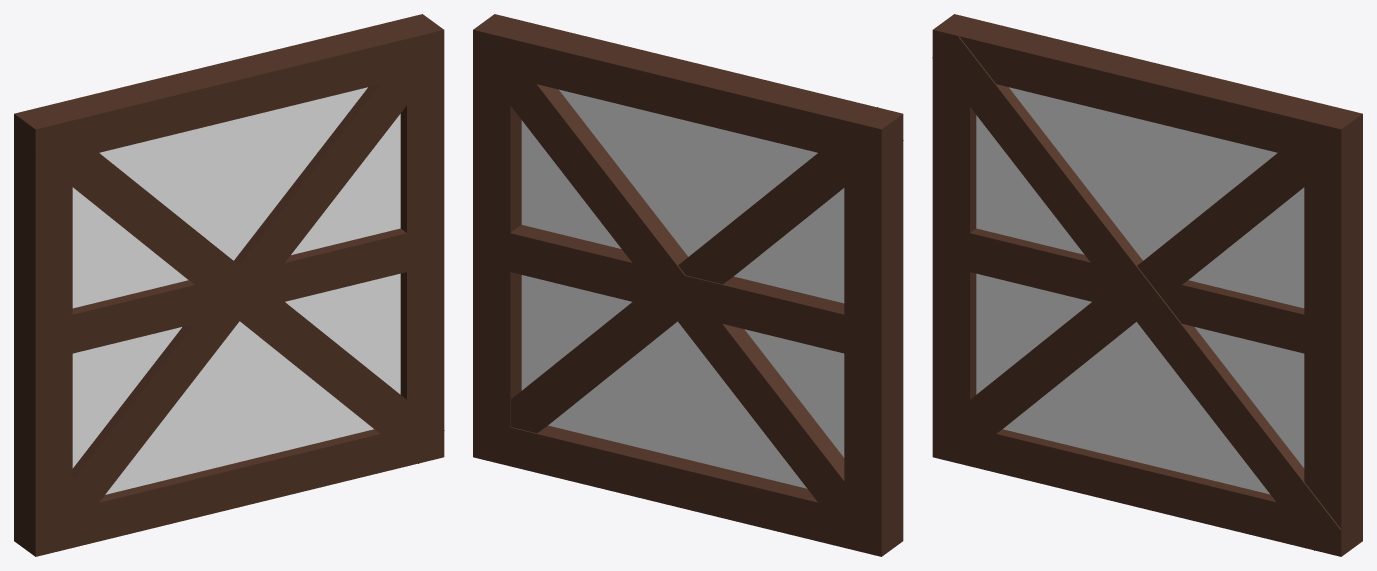
File: xlduvar.fbx
3 renders of one model, left to right at view 1: azimuth 30°, elevation 25°; view 2: azimuth 150°, elevation 25°; view 3: azimuth 330°, elevation 25°, orthographic.
Parts seen in each view (by area): view 1: Plane.031, Plane.028; view 2: Plane.031, Plane.028; view 3: Plane.031, Plane.028.
Boxes of the visible parts, x1,y1,x2,y2 form: Plane.031: [14, 14, 444, 556]; Plane.028: [72, 87, 400, 494]; Plane.031: [473, 14, 903, 556]; Plane.028: [521, 89, 844, 488]; Plane.031: [932, 14, 1362, 556]; Plane.028: [976, 87, 1304, 494].
Size of the model in its own units: 2.86 by 2.86 by 0.2704.
